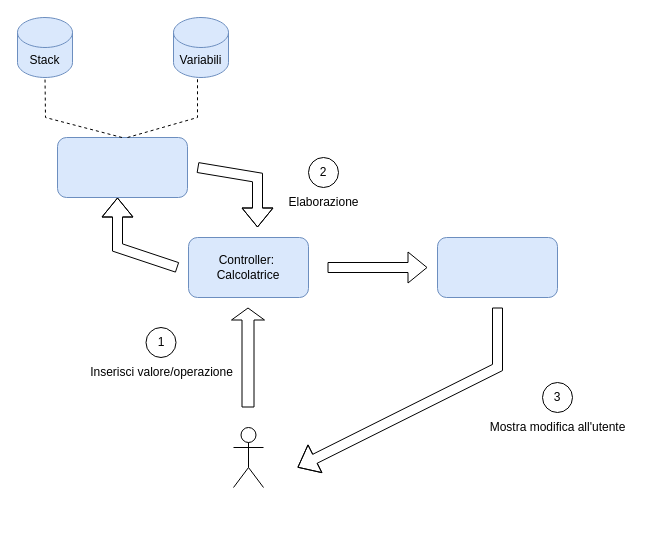
Image size: 655x541. Some labels were removed from this diagram. Each missing label, with the box of its shape:
Model: Manager: (56, 136, 188, 198)
Utente: (232, 426, 264, 488)
View: Interfaccia grafica: (436, 236, 558, 298)
